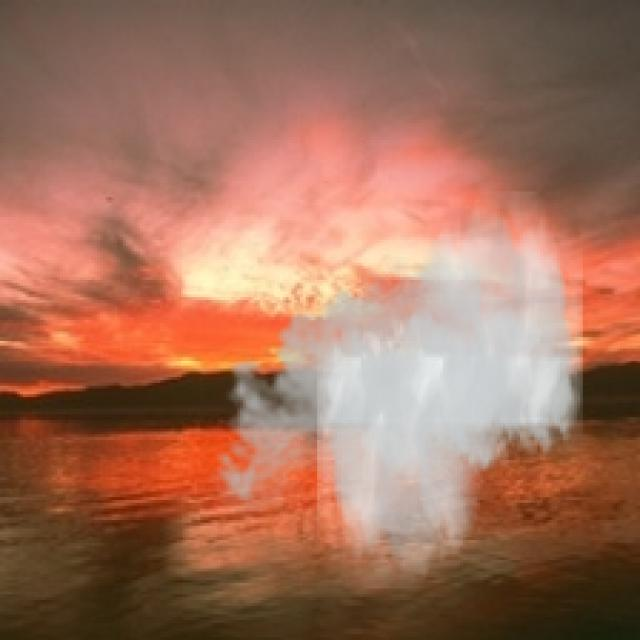smoke: (206, 192, 583, 588)
